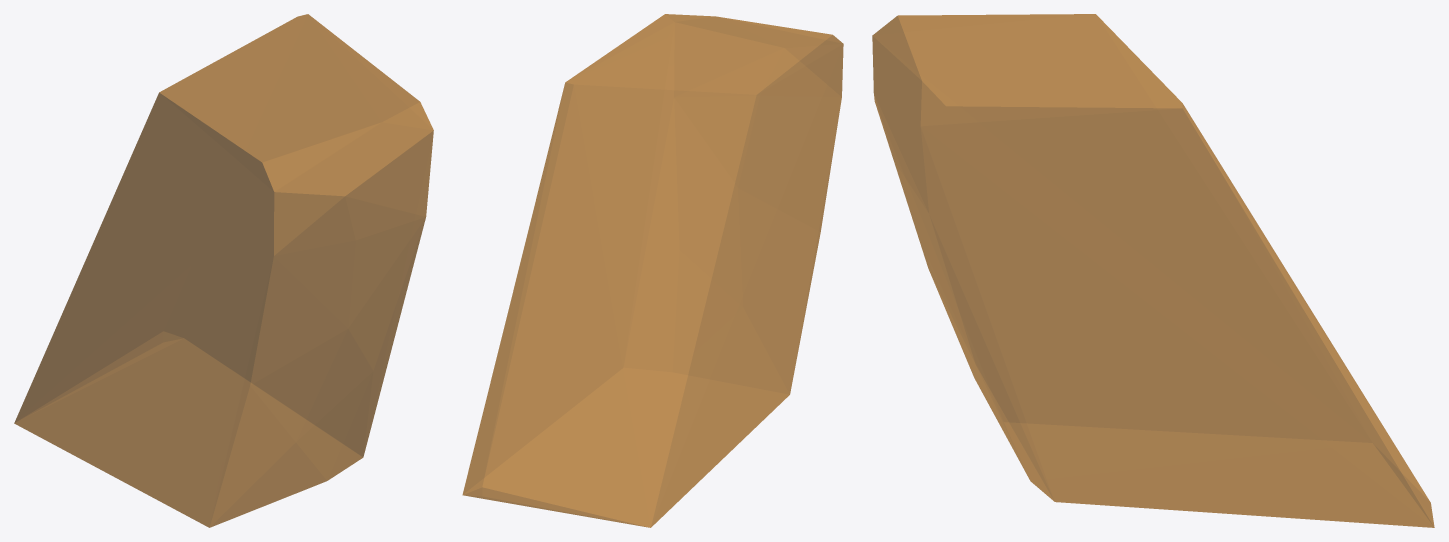
3 renders of one model, left to right at view 1: azimuth 30°, elevation 25°; view 2: azimuth 150°, elevation 25°; view 3: azimuth 270°, elevation 25°, orthographic. The views are drawn at different scales.
Visible parts, largest first — view 1: Shape_IndexedFaceSet.011_Shape_IndexedFaceSet.5913; view 2: Shape_IndexedFaceSet.011_Shape_IndexedFaceSet.5913; view 3: Shape_IndexedFaceSet.011_Shape_IndexedFaceSet.5913.
Boxes of the visible parts, x1,y1,x2,y2 form: Shape_IndexedFaceSet.011_Shape_IndexedFaceSet.5913: (14,14,433,527); Shape_IndexedFaceSet.011_Shape_IndexedFaceSet.5913: (462,14,843,527); Shape_IndexedFaceSet.011_Shape_IndexedFaceSet.5913: (872,14,1434,527).
Bounding box in the file's own units: 0.1786 × 0.3659 × 0.4301.
